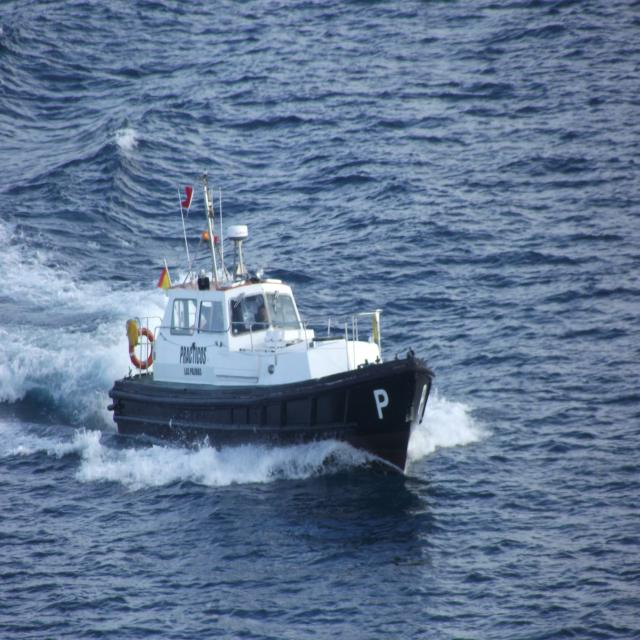houseboat: (100, 213, 422, 474)
